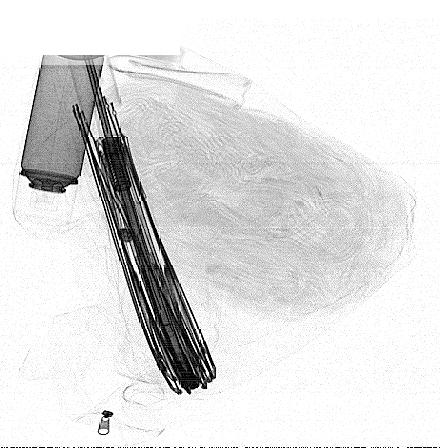Sprayer: (13, 55, 104, 224)
